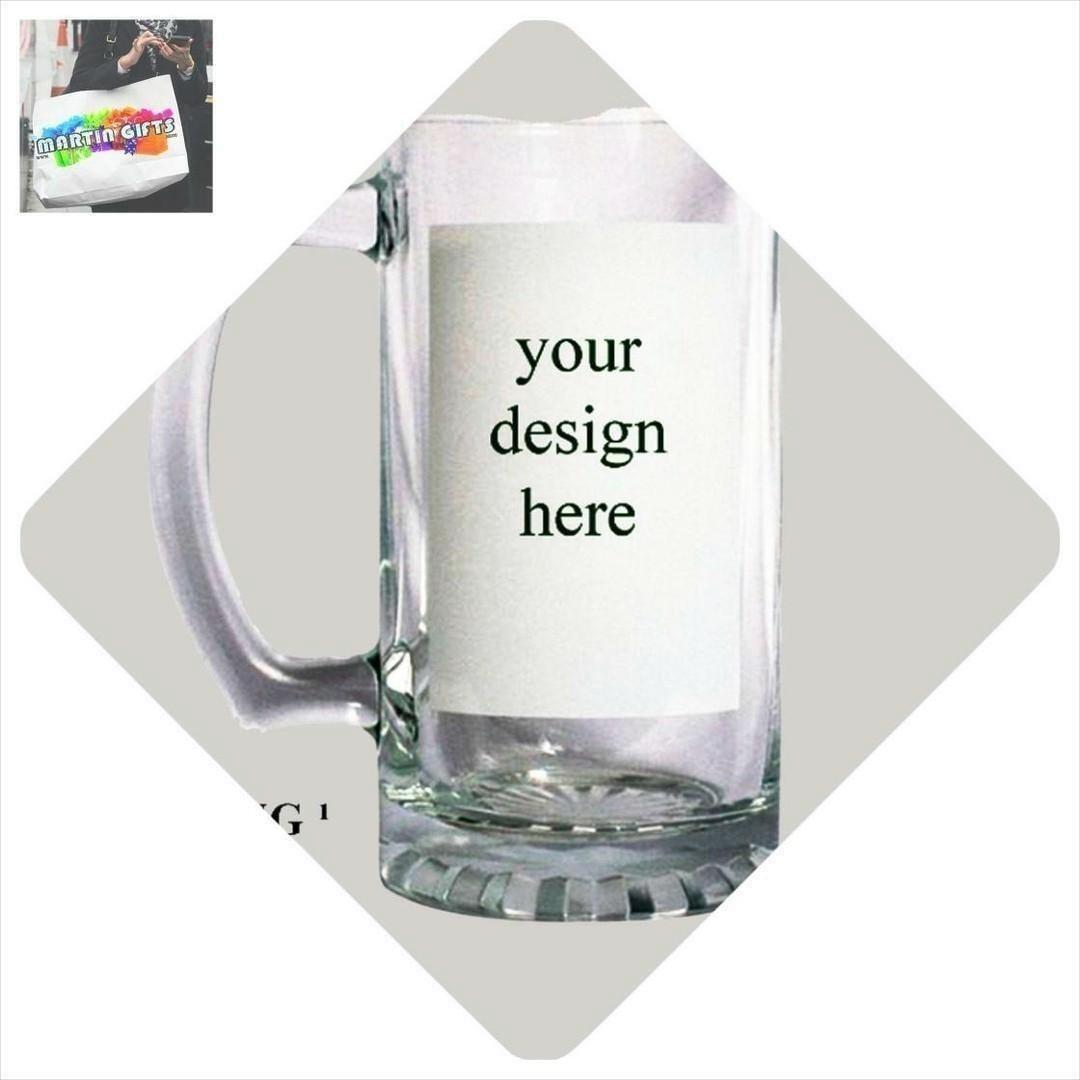glass-mug: (157, 102, 796, 932)
